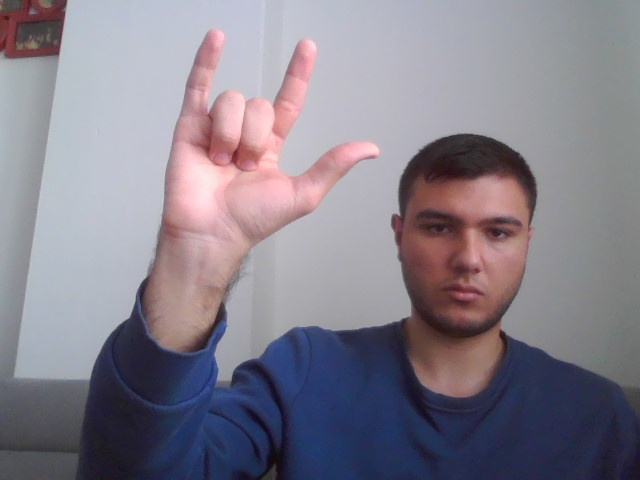ı love you: (161, 27, 383, 239)
